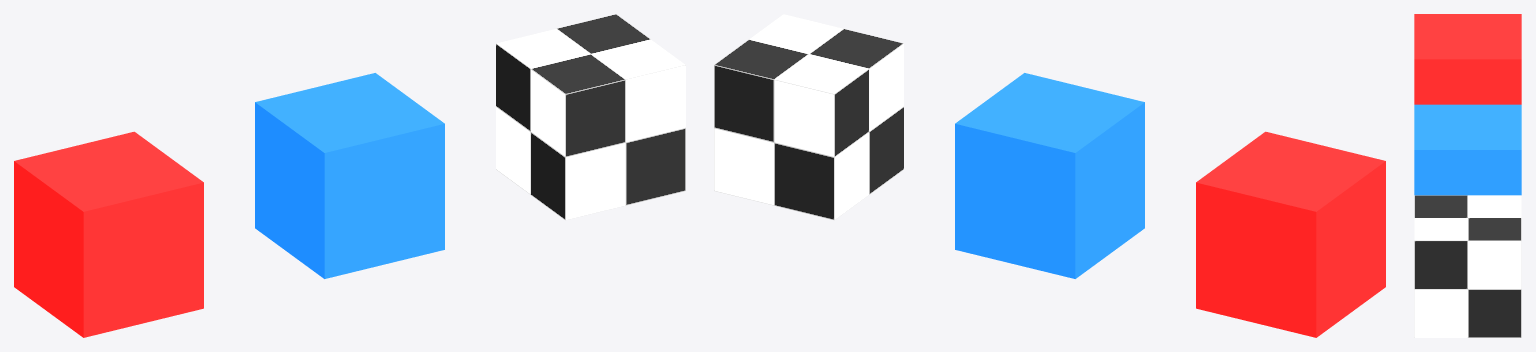
Rendered from EmissiveTest.glb.
3 views of the same model, side by side, from view 1: azimuth 30°, elevation 25°; view 2: azimuth 150°, elevation 25°; view 3: azimuth 270°, elevation 25° (orthographic). The views are drawn at different scales.
Visible parts, largest first — view 1: A_ColorOnly, C_Texture, B_Strength8; view 2: A_ColorOnly, C_Texture, B_Strength8; view 3: C_Texture, B_Strength8, A_ColorOnly.
Boxes of the visible parts, x1,y1,x2,y2 form: A_ColorOnly: (14,131,203,337); C_Texture: (496,14,685,220); B_Strength8: (255,73,444,278); A_ColorOnly: (1196,131,1385,337); C_Texture: (714,14,903,220); B_Strength8: (955,73,1144,278); C_Texture: (1414,195,1521,337); B_Strength8: (1414,104,1521,195); A_ColorOnly: (1414,14,1521,104).
Bounding box in the file's own units: 7.5 × 1.5 × 1.5.
